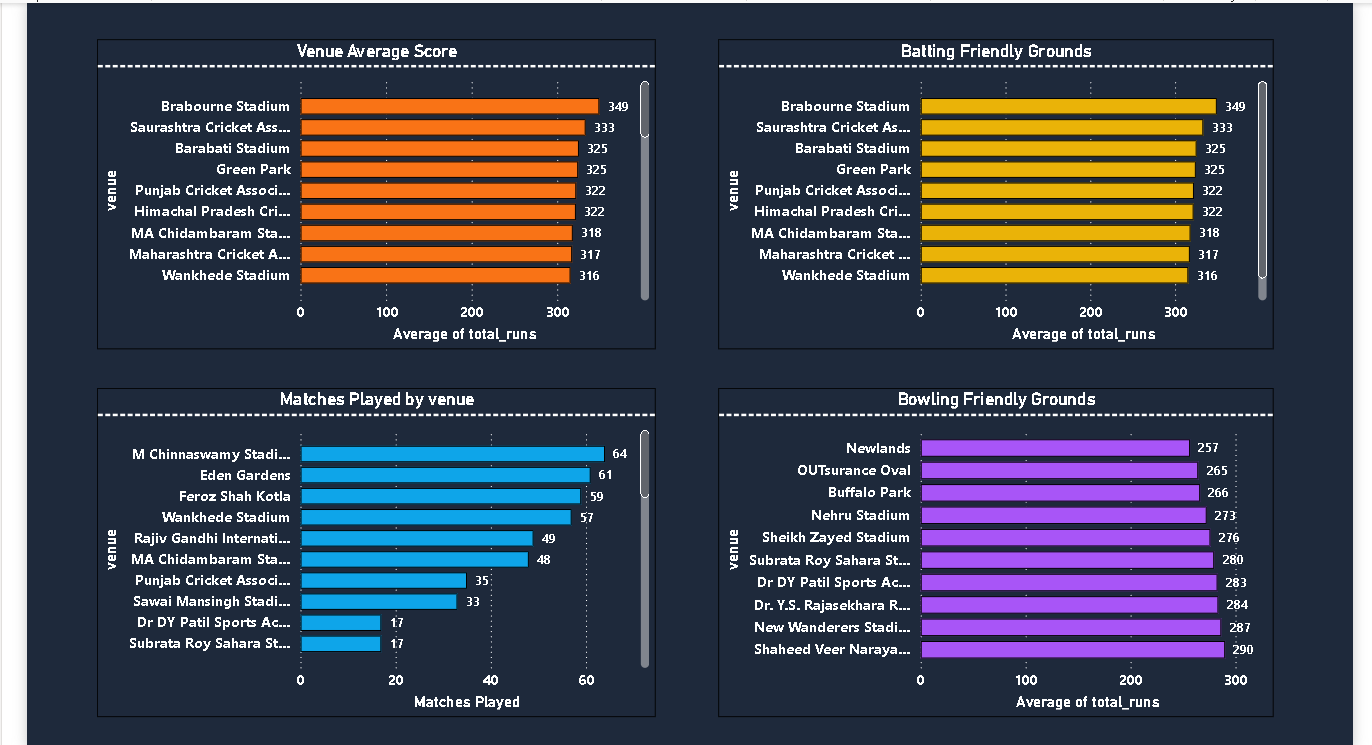

What the dashboard file says about the page in this screenshot:
{"tool":"powerbi","page":{"name":"Venue Analysis","canvas":[1280,720],"ordinal":3},"visuals":[{"type":"barChart","title":"Venue Average Score","fields":{"Y":["Avg(venue_avg.total_runs)"],"Category":["venue_avg.venue"]},"box":[67.6,35,539.3,299.2],"z":0},{"type":"barChart","title":"Batting Friendly Grounds","fields":{"Y":["Avg(venue_avg.total_runs)"],"Category":["venue_avg.venue"]},"box":[667.2,35,535.7,299.2],"z":1000},{"type":"barChart","title":"Bowling Friendly Grounds","fields":{"Y":["Avg(venue_avg.total_runs)"],"Category":["venue_avg.venue"]},"box":[667.2,371.6,535.7,317.3],"z":2000},{"type":"clusteredBarChart","fields":{"Category":["match2.venue"],"Y":["match2.Matches Played"]},"box":[67.6,371.6,539.3,317.3],"z":3000}]}

Visuals, with their boxes on the page's 1280x720 design canvas (x1, y1, x2, y2). These are canvas units, not pixel positions in the 1372x745 screenshot, which may show the page scaled, cropped or inside an application window:
"Venue Average Score" barChart: <region>68, 35, 607, 334</region>
"Batting Friendly Grounds" barChart: <region>667, 35, 1203, 334</region>
"Bowling Friendly Grounds" barChart: <region>667, 372, 1203, 689</region>
clusteredBarChart - match2.venue x match2.Matches Played: <region>68, 372, 607, 689</region>
